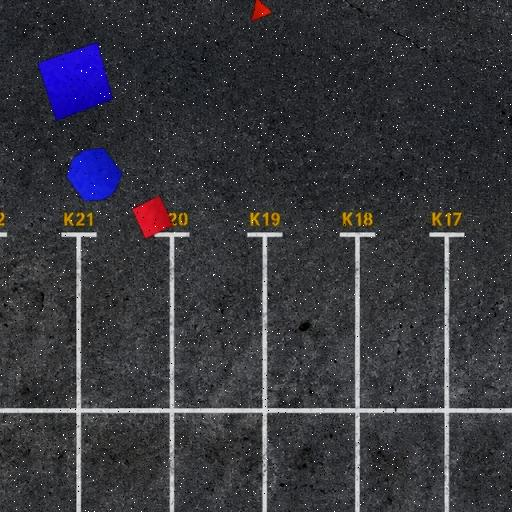BLUE_SQUARE: (36, 42, 114, 122)
RED_SQUARE: (130, 195, 174, 239)
